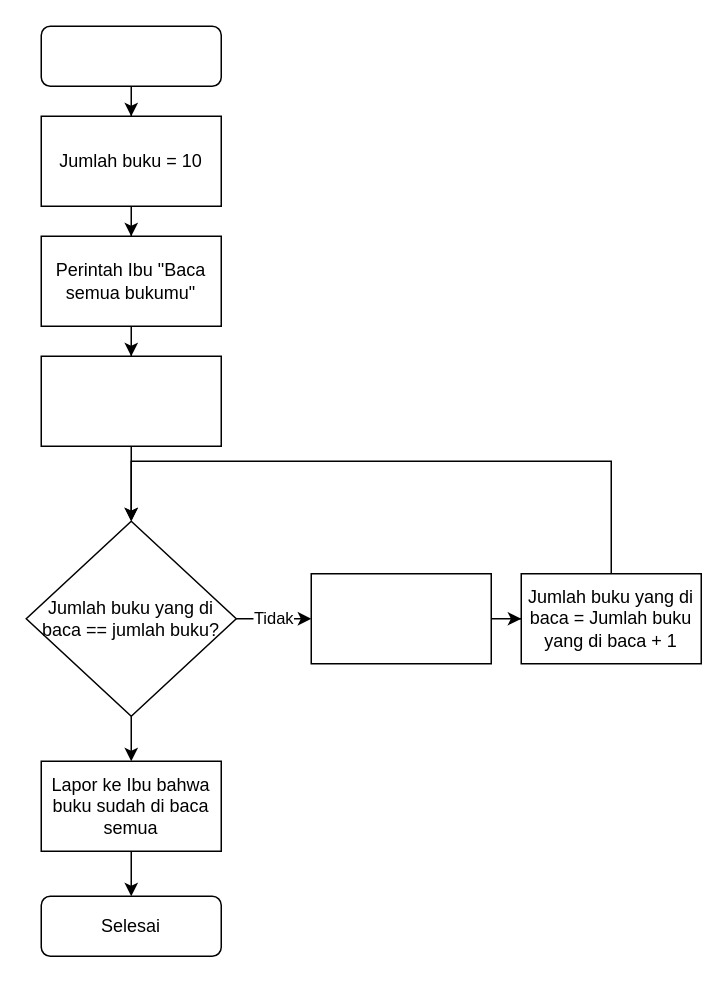
The diagram is 728 pixels wide and 983 high, and some of its shapes have lost their labels. Here are the shapes that lost their labels. From the top down, the box of each, then its label:
(40, 25, 221, 86): Mulai
(40, 355, 221, 446): Jumlah buku yang di baca = 0
(310, 572, 491, 664): Baca buku yang belum di baca
